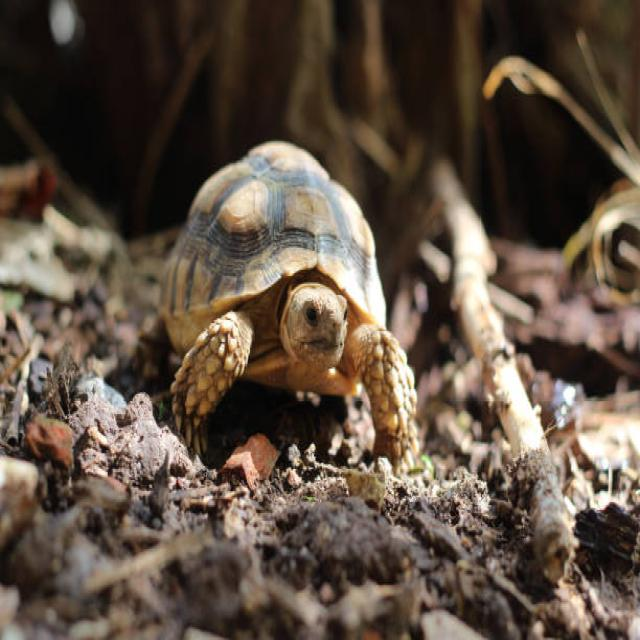tortoise: (152, 126, 378, 305), (173, 319, 258, 467), (351, 319, 428, 475), (271, 255, 355, 377)
